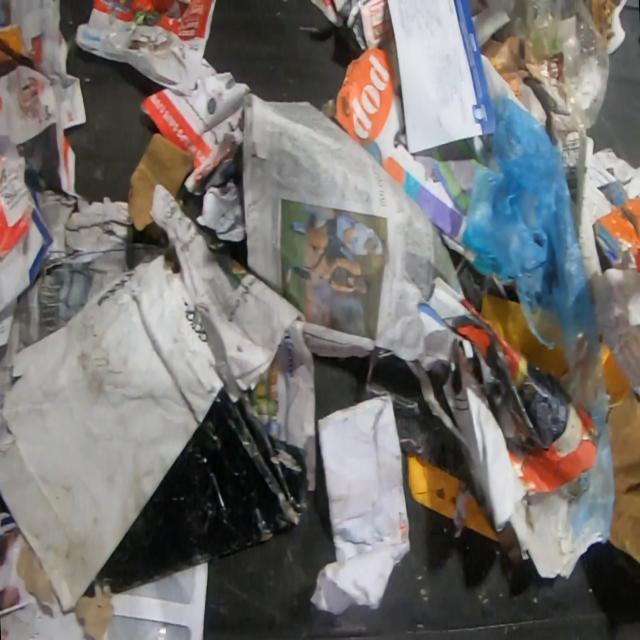cardboard: (0, 253, 225, 640), (98, 387, 309, 593), (74, 0, 216, 95), (127, 132, 194, 232), (606, 384, 640, 563)
soft_plastic: (459, 95, 614, 539), (494, 0, 609, 132), (596, 193, 639, 254)
